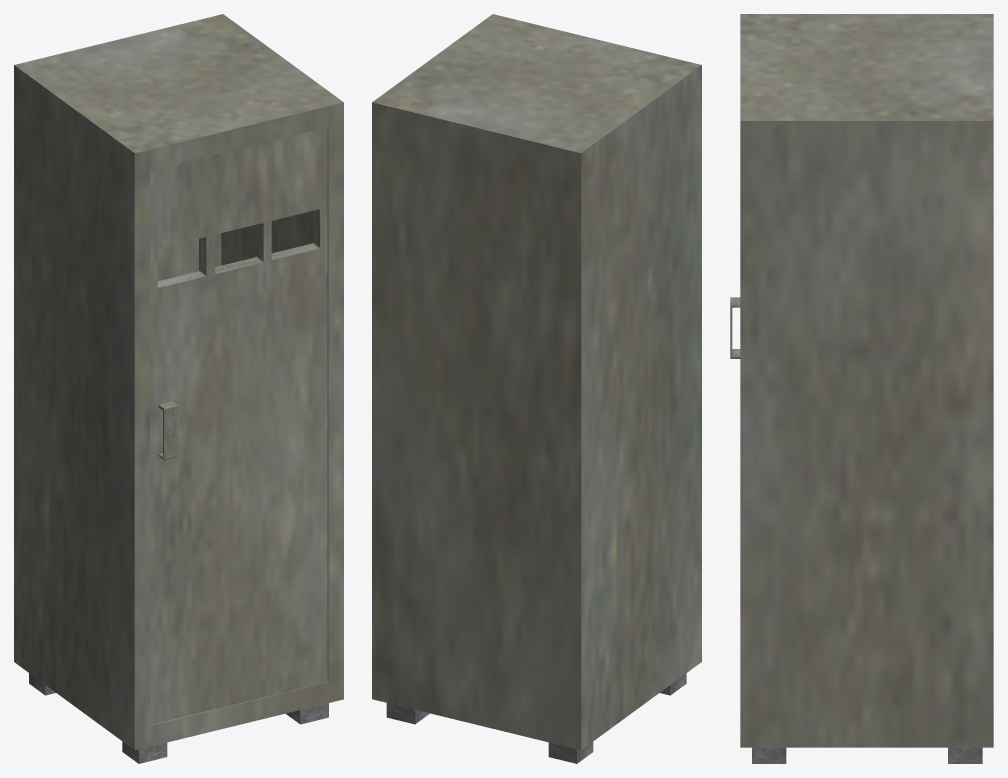
File: Hiding Locker.glb
3 views of the same model, side by side, from view 1: azimuth 30°, elevation 25°; view 2: azimuth 150°, elevation 25°; view 3: azimuth 270°, elevation 25° (orthographic). The views are drawn at different scales.
Visible parts, largest first — view 1: Cube, Cube.006, Cube.009, Cube.002; view 2: Cube, Cube.003, Cube.004; view 3: Cube, Cube.004, Cube.001.
Boxes of the visible parts, x1,y1,x2,y2 form: Cube: [14, 14, 343, 750]; Cube.006: [150, 127, 327, 724]; Cube.009: [158, 401, 178, 460]; Cube.002: [122, 741, 167, 763]; Cube: [372, 14, 701, 749]; Cube.003: [548, 742, 593, 763]; Cube.004: [386, 703, 429, 724]; Cube: [740, 14, 993, 747]; Cube.004: [948, 747, 982, 763]; Cube.001: [752, 747, 786, 763].
Bounding box in the file's own units: 3.15 × 8.89 × 3.28.
Materials: 3 (3 with a texture image).
